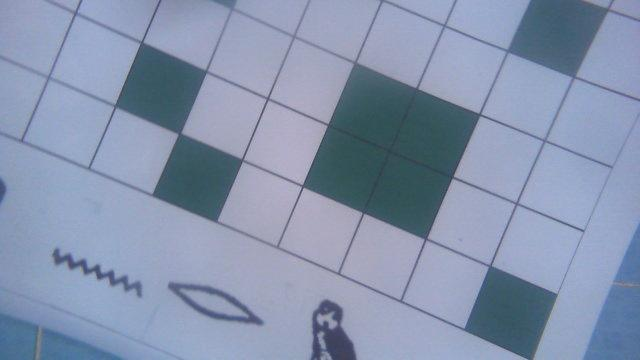Mouth: (167, 272, 265, 332)
Owl: (306, 299, 364, 360)
Water: (47, 246, 146, 303)
